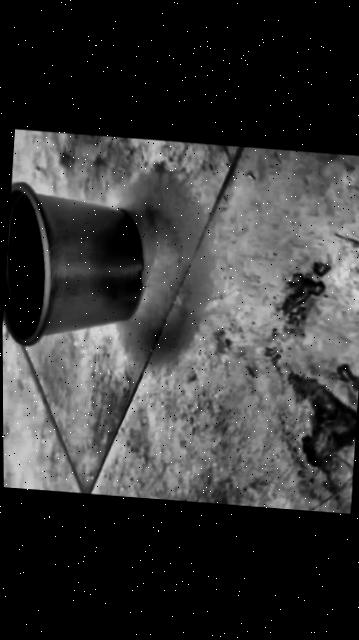pot: (1, 182, 148, 354)
